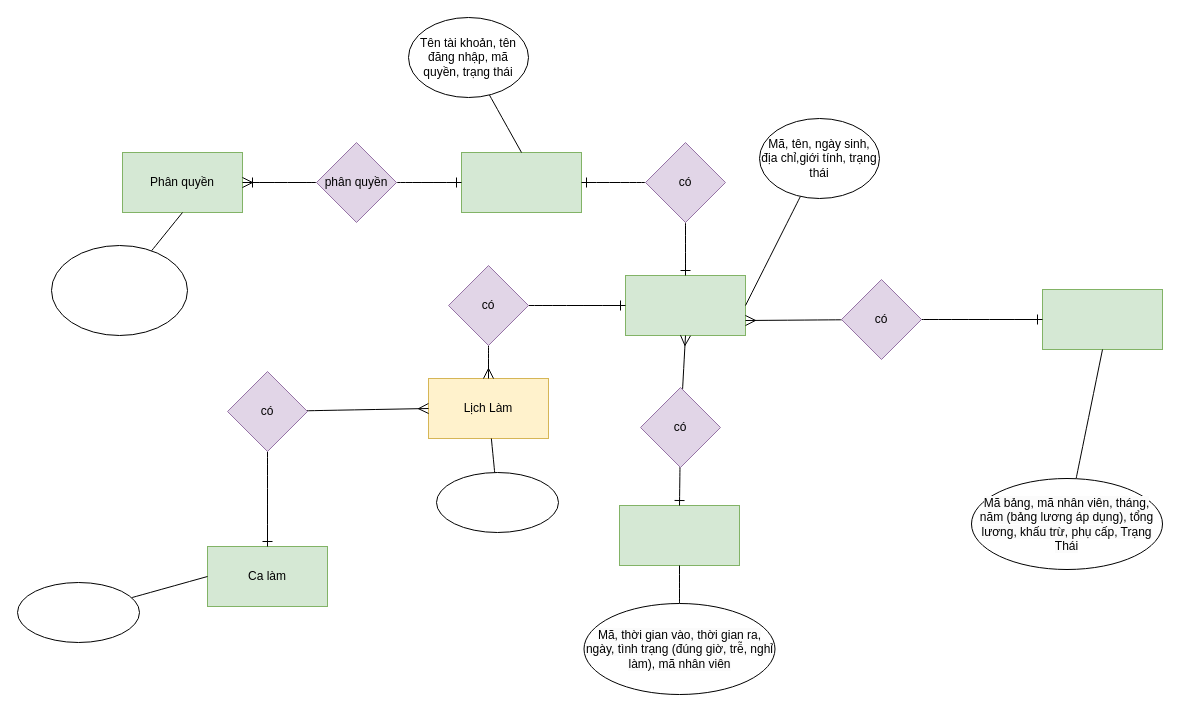
This 1180x712 diagram has some shape labels left out. Each missing label, with the box of its shape:
Bảng chấm công: (618, 504, 740, 566)
Bảng lương: (1042, 288, 1162, 350)
Mã ca, mã nhân viên, số nhân viên, ngày: (436, 472, 558, 532)
Mã ca, thời gian vào, ra, trạng thái: (16, 582, 140, 642)
Mã, tên, quyền thống kê, quyền chấm công bù, ...: (50, 244, 188, 336)
Nhân viên: (624, 274, 746, 336)
Tài khoản: (460, 152, 582, 212)
